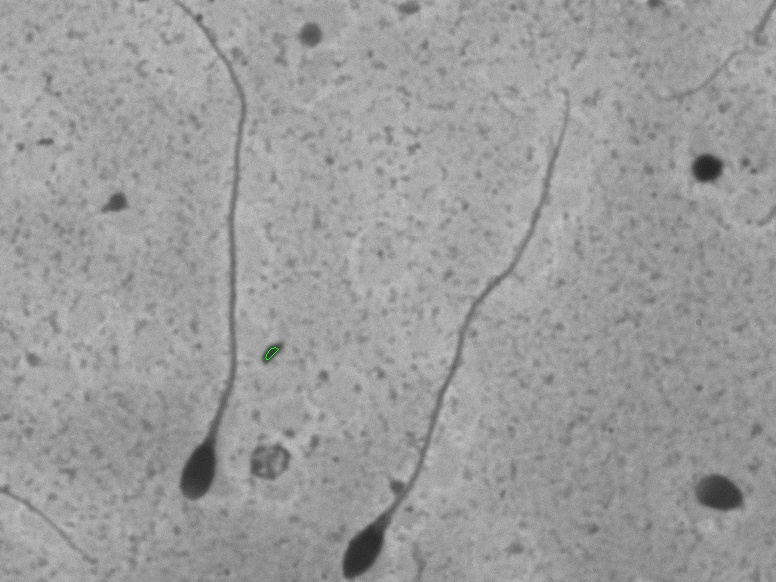Abnormal: (325, 77, 598, 581)
Normal: (144, 20, 246, 516)
